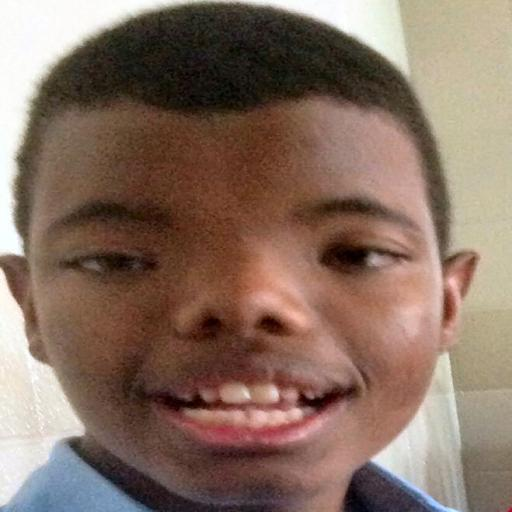Autism: (56, 36, 490, 466)
